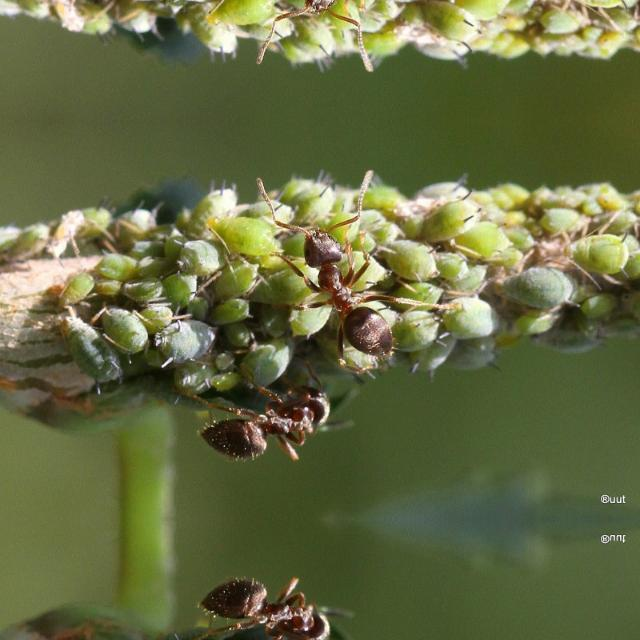Lasius: (270, 177, 430, 363), (183, 363, 353, 469), (183, 566, 353, 640), (270, 0, 430, 62)
